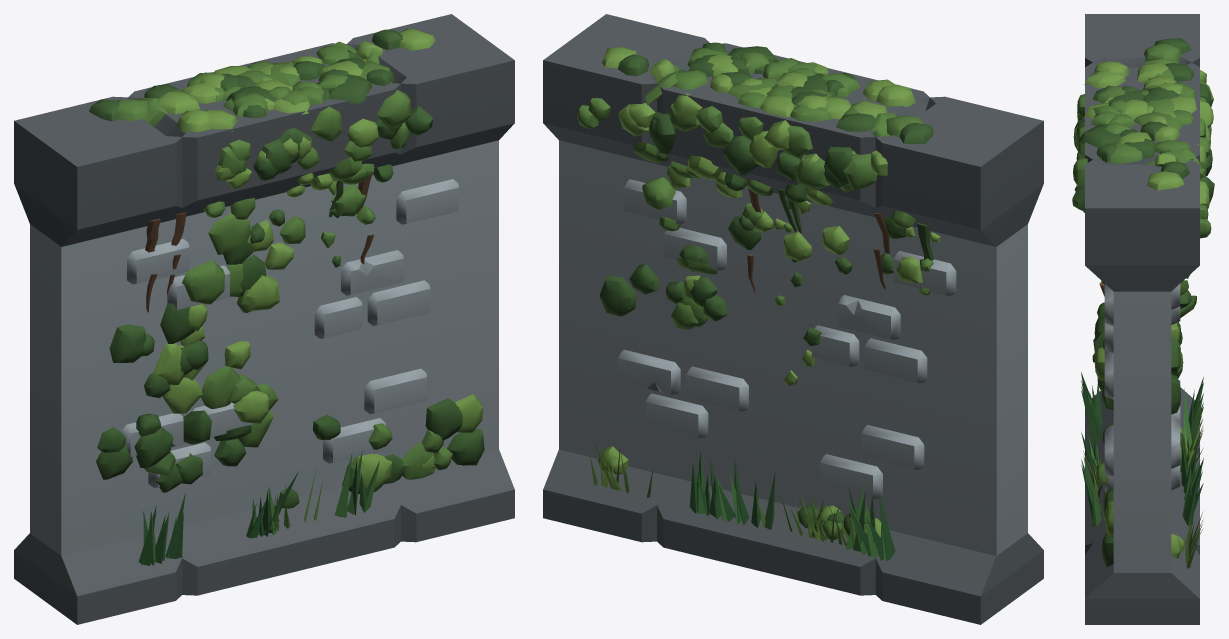
The model's file is wall_overgrown_A.glb.
The picture shows the model from 3 angles, left to right: view 1: azimuth 30°, elevation 25°; view 2: azimuth 150°, elevation 25°; view 3: azimuth 270°, elevation 25°; orthographic projection. The views are drawn at different scales.
Visible parts, largest first — view 1: Item; view 2: Item; view 3: Item.
Boxes of the visible parts, left/top/right/bottom form: Item: left=14, top=14, right=514, bottom=624; Item: left=543, top=14, right=1043, bottom=624; Item: left=1072, top=14, right=1214, bottom=624.
Bounding box in the file's own units: 4 × 4.1 × 1.24.
3 materials, 3 textured.
